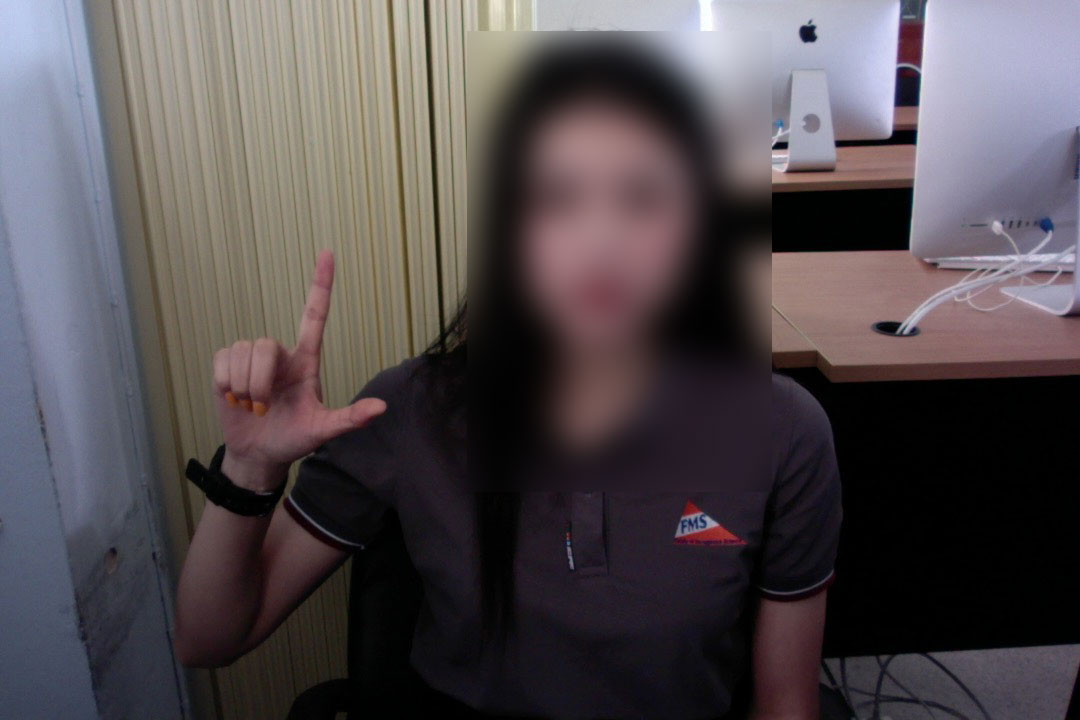lor: (190, 232, 396, 476)
